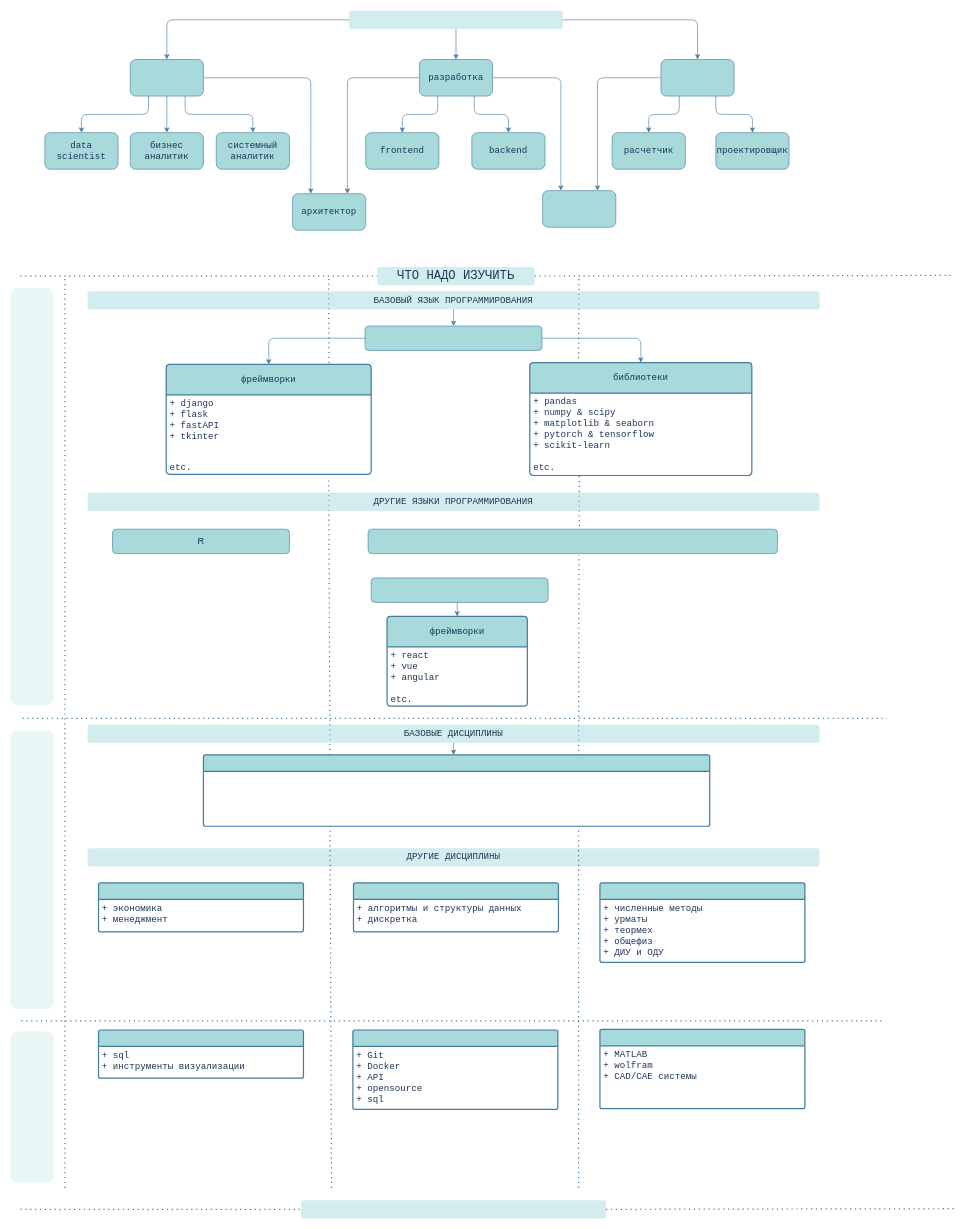
Some shapes in this 966 by 1229 pixel diagram are drawn without their labels. Each missing label, with the centre of its shape:
"+ теория вероятностей + мат. статистика + линал + матанализ" belongs at [456,790].
"C/C++" belongs at [572,541].
"JavaScript" belongs at [459,589].
"Python" belongs at [453,337].
"аналитика" belongs at [166,77].
"ВОЗМОЖНЫЕ ПУТИ РАЗВИТИЯ В IT" belongs at [456,19].
"ДР. ИНСТРУМЕНТЫ" belongs at [31,1106].
"инженер-программист" belongs at [579,208].
"инженерия" belongs at [697,77].
"МАТ. ДИСЦИПЛИНЫ И НЕ ТОЛЬКО" belongs at [31,869].
"ЧТО НЕОБХОДИМО ДЛЯ 1-ОЙ РАБОТЫ" belongs at [453,1209].
"ЯЗЫКИ ПРОГРАММИРОВАНИЯ" belongs at [31,496].
